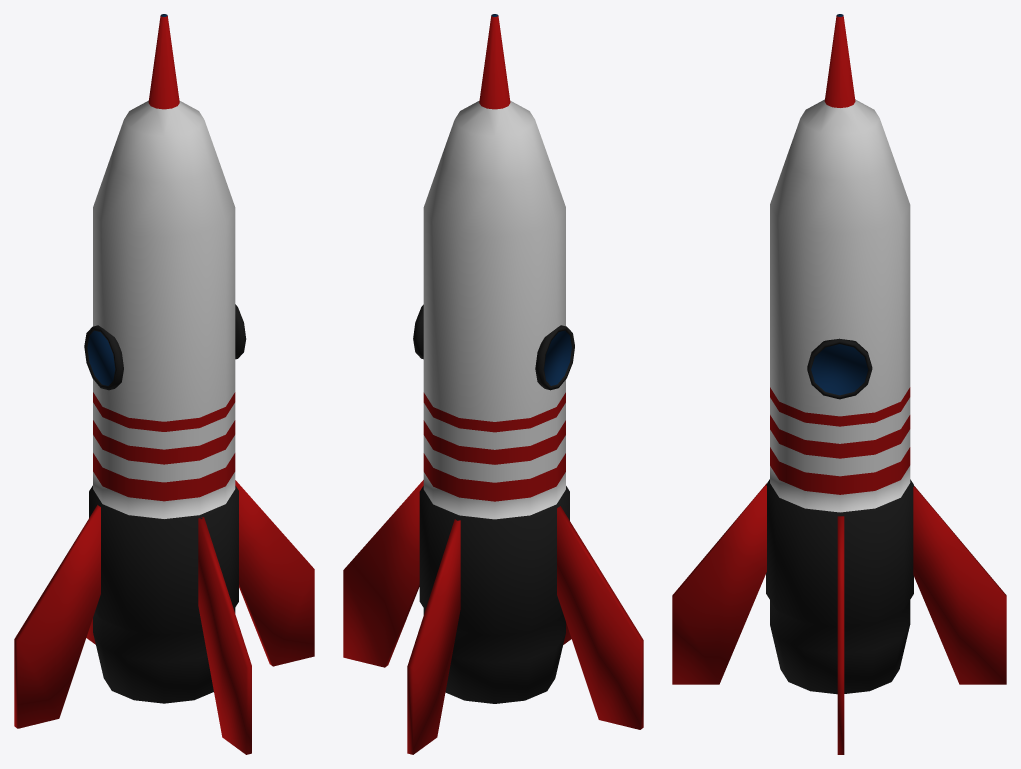
The model's file is rocket.obj.
3 renders of one model, left to right at view 1: azimuth 30°, elevation 25°; view 2: azimuth 150°, elevation 25°; view 3: azimuth 270°, elevation 25°, orthographic.
Visible parts, largest first — view 1: obj1; view 2: obj1; view 3: obj1.
Part boxes in pixels (left/top/right/bottom): obj1: left=14, top=14, right=314, bottom=754; obj1: left=343, top=14, right=643, bottom=754; obj1: left=672, top=14, right=1006, bottom=754.
Size of the model in its own units: 1.7 by 3.7 by 1.68.
